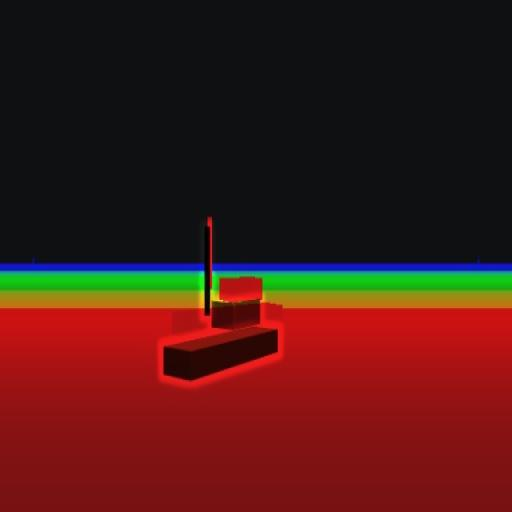fishing_boat: (162, 222, 281, 380)
